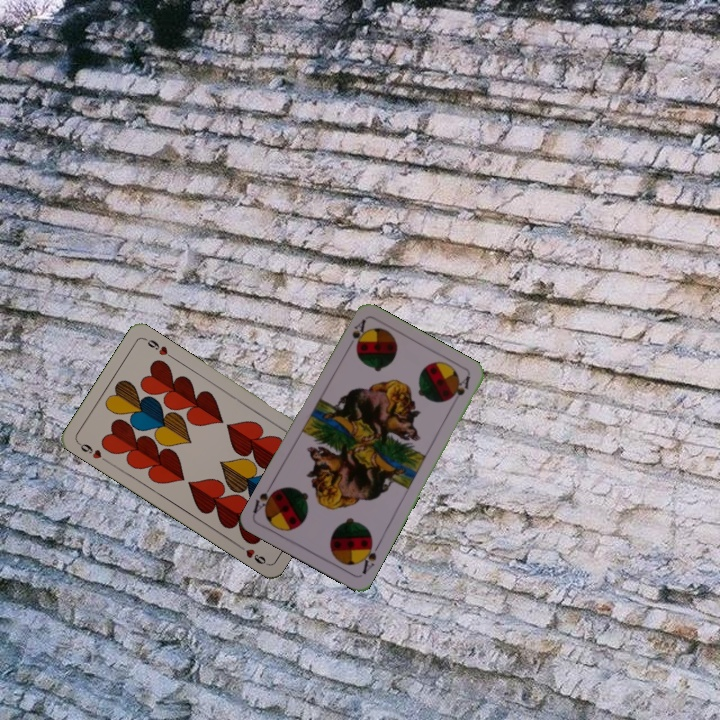H9: (74, 438, 110, 465)
SA: (355, 536, 382, 577), (343, 315, 369, 353)
